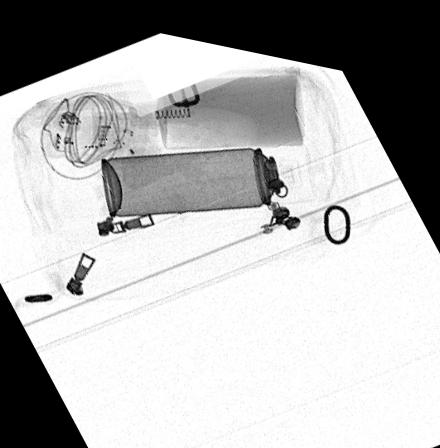Sprayer: (98, 131, 315, 212)
